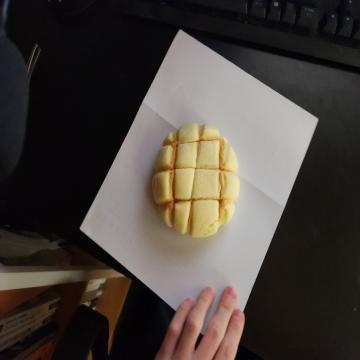melon_bread: (152, 123, 241, 239)
